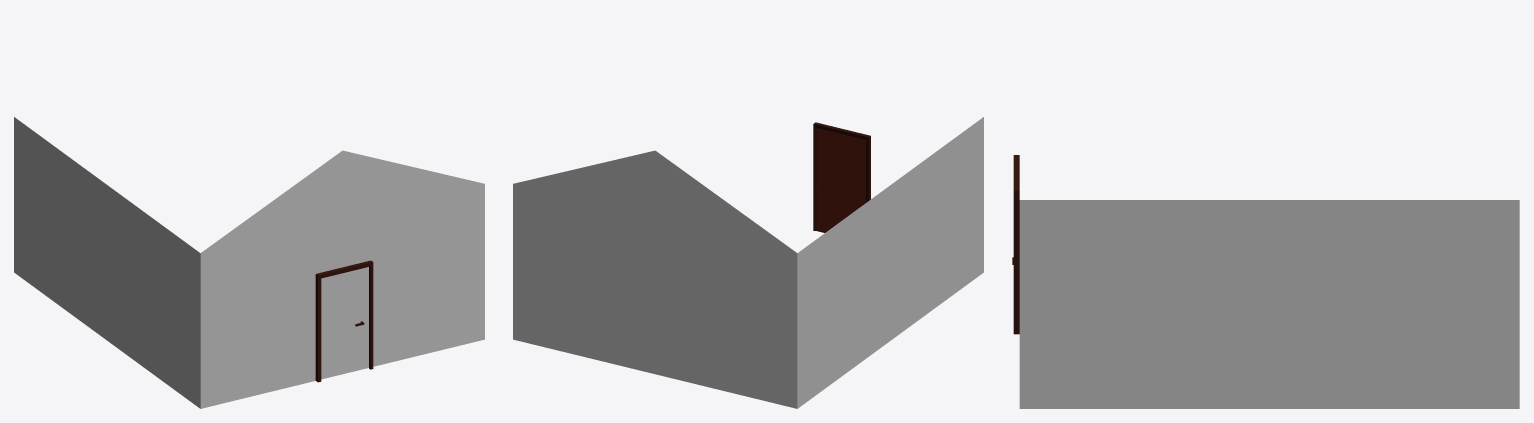
The model's file is barn-large.glb.
3 renders of one model, left to right at view 1: azimuth 30°, elevation 25°; view 2: azimuth 150°, elevation 25°; view 3: azimuth 270°, elevation 25°, orthographic. The views are drawn at different scales.
Parts seen in each view (by area): view 1: Cube026; view 2: Cube026; view 3: Cube026.
Part boxes in pixels (x1,y1,x2,y2): Cube026: (14, 117, 484, 408); Cube026: (513, 117, 983, 408); Cube026: (1012, 155, 1519, 408).
Bounding box in the file's own units: 639 × 480 × 736.
3 materials, 1 textured.
